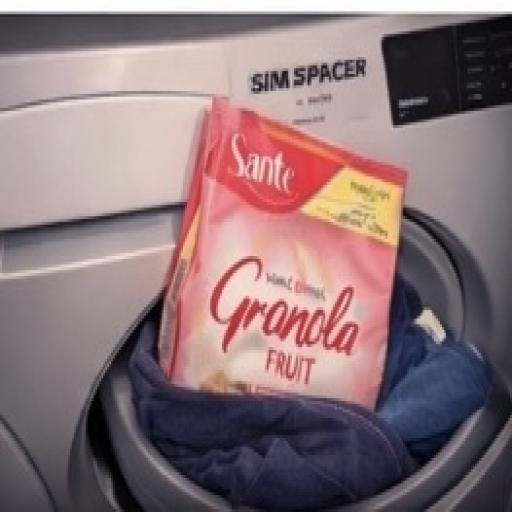granola: (156, 78, 420, 489)
